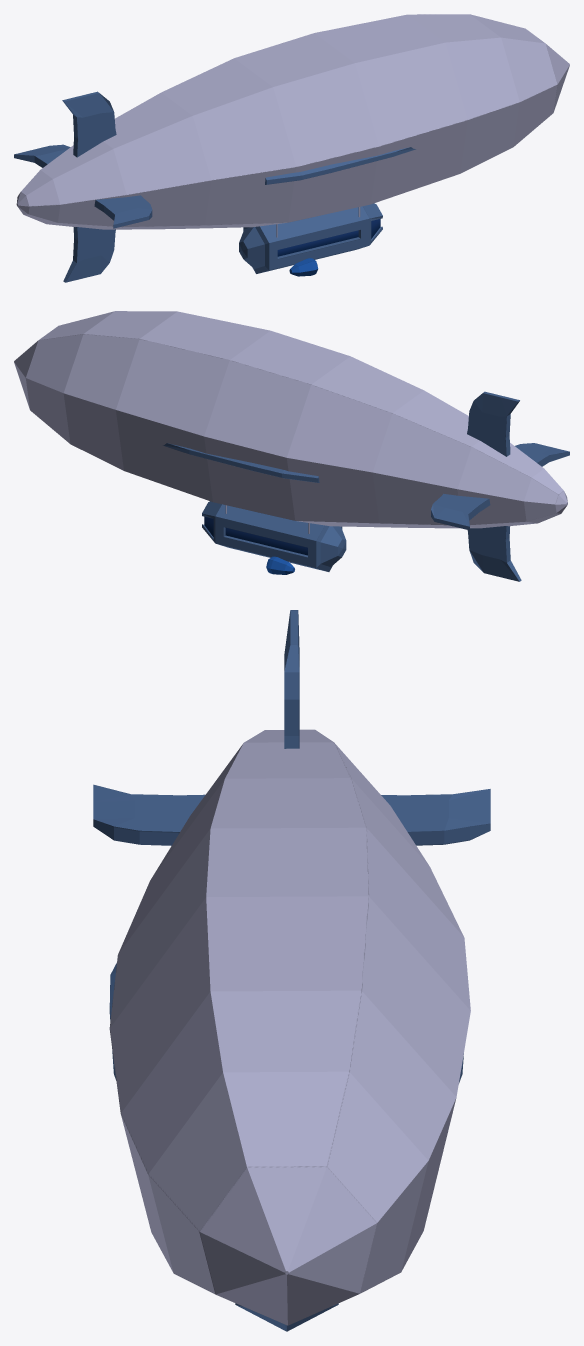
The model's file is CUPIC_BLIMP.obj.
3 renders of one model, top to bottom at view 1: azimuth 30°, elevation 25°; view 2: azimuth 150°, elevation 25°; view 3: azimuth 270°, elevation 25°, orthographic. The views are drawn at different scales.
Size of the model in its own units: 674 by 255 by 211.
1 material, 1 textured.
